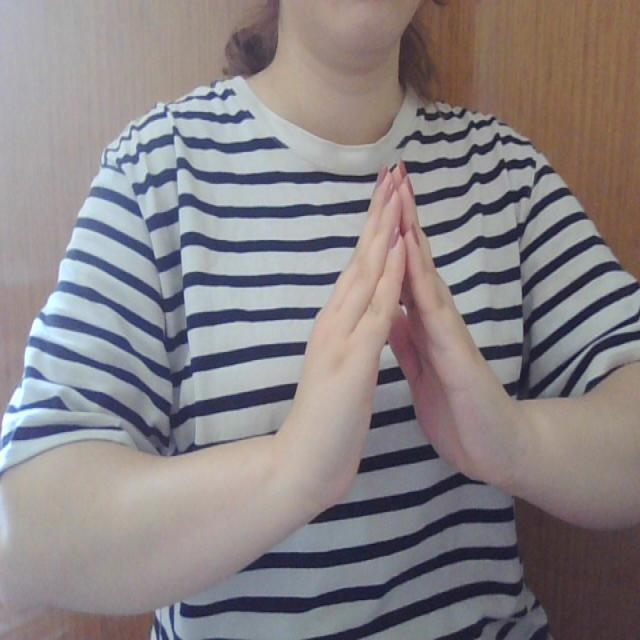Ev: (287, 160, 526, 509)
